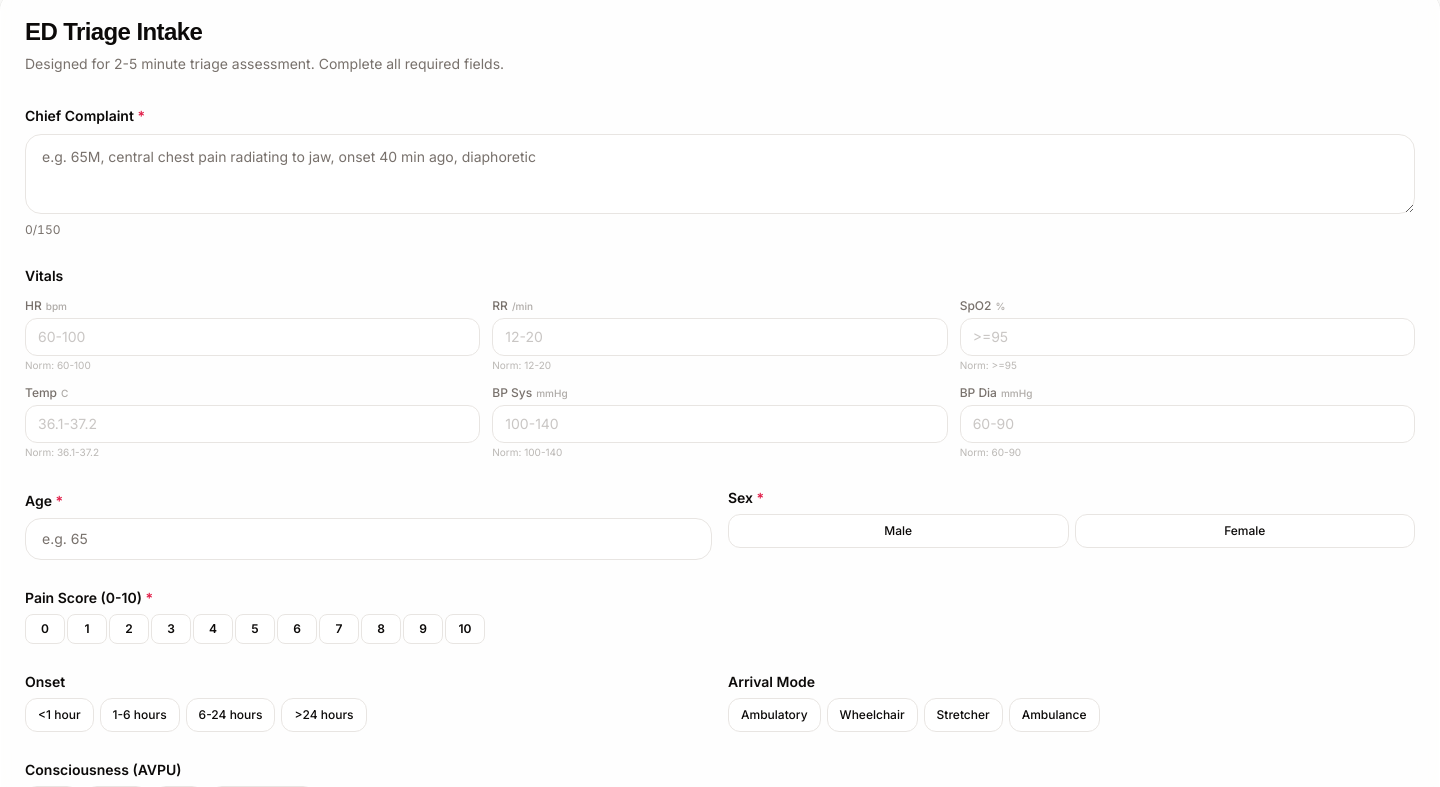
Test: TriageForm › toggles sex selection on second click
Step 1. Click the button "Male" → (898, 531), box top-left (728, 514), bottom-right (1068, 548)
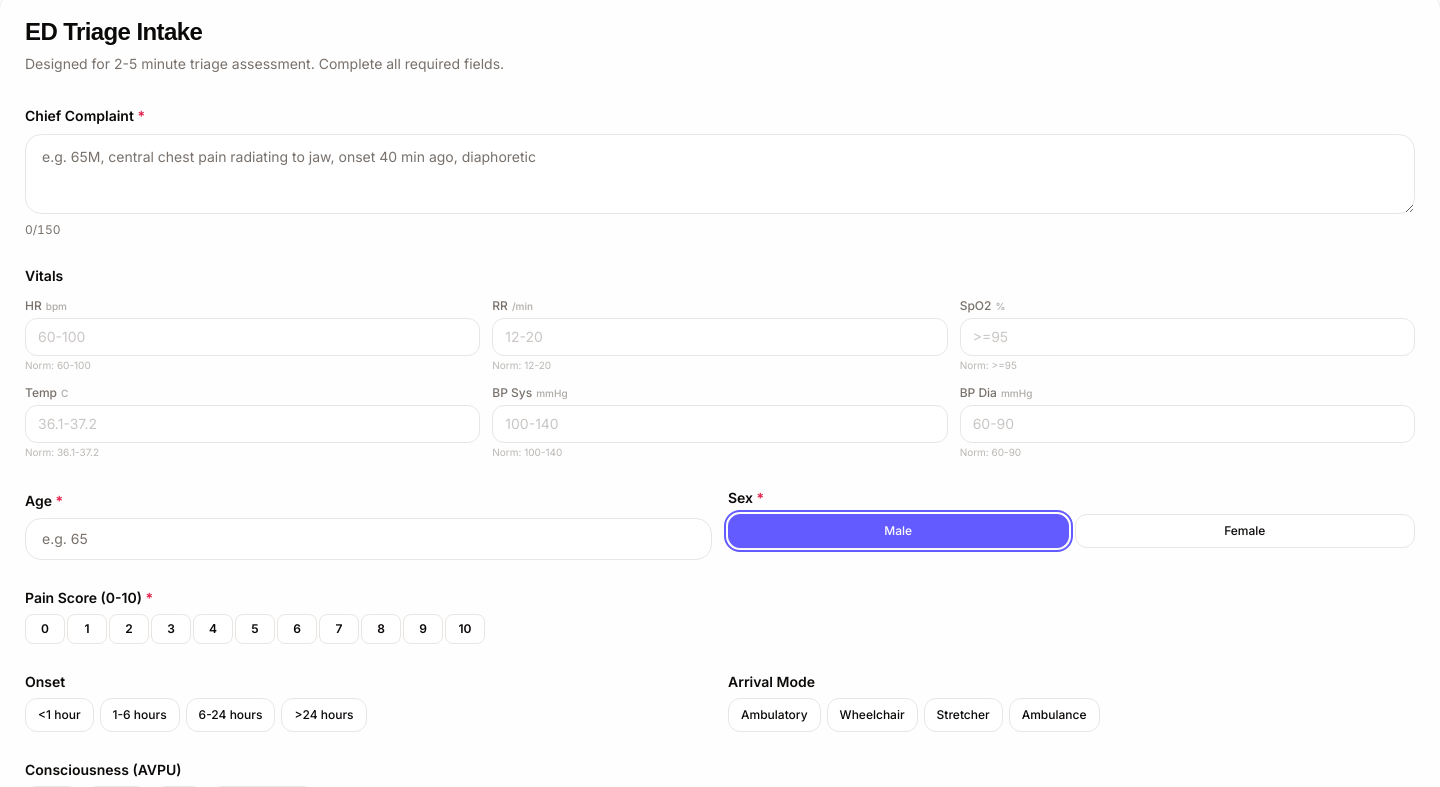
Step 2. Click the button "Male" → (898, 531), box top-left (728, 514), bottom-right (1068, 548)
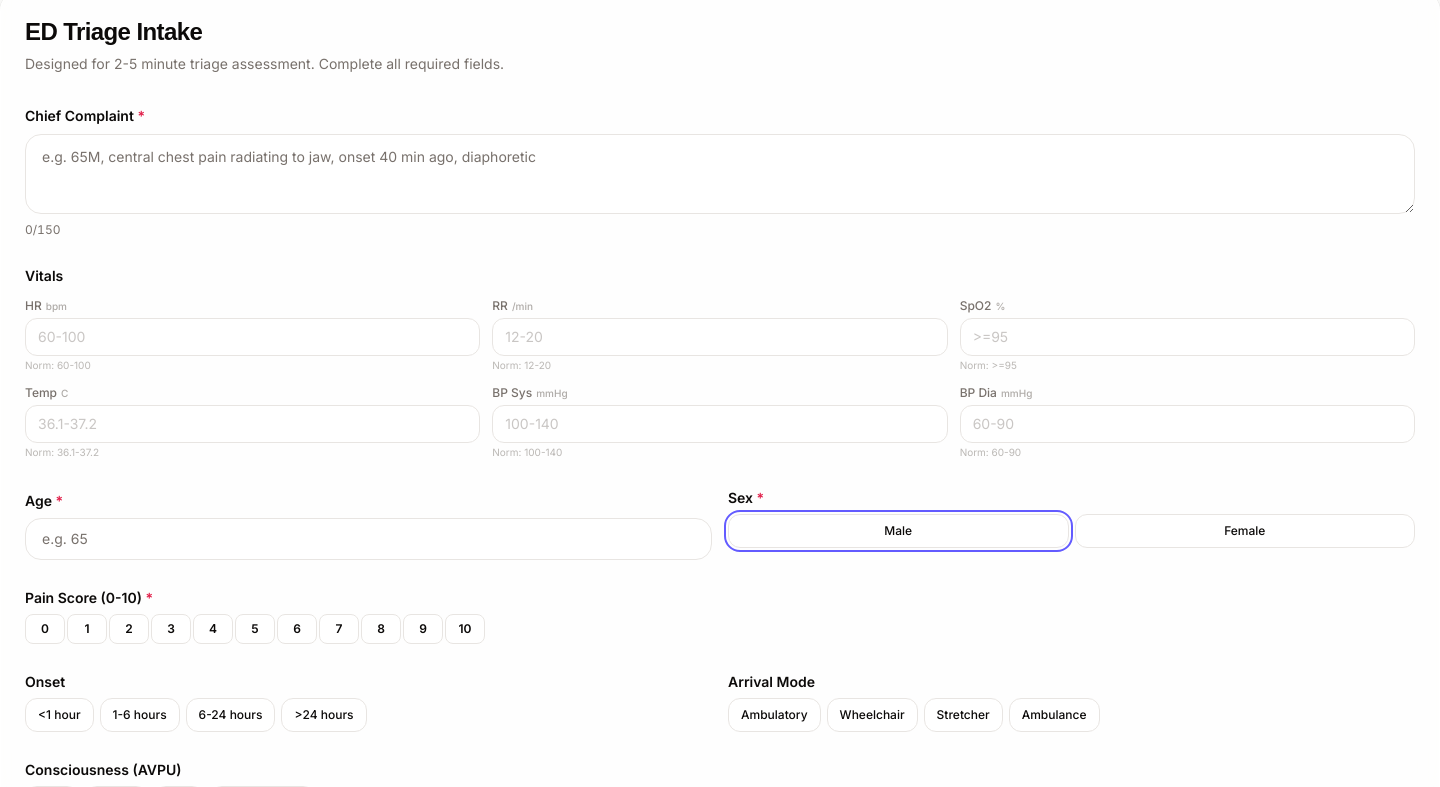
// Submit should fail because sex is now empty
Step 3. Type "test" into the text box labelled "Chief Complaint *" → (720, 174), box top-left (25, 134), bottom-right (1415, 214)
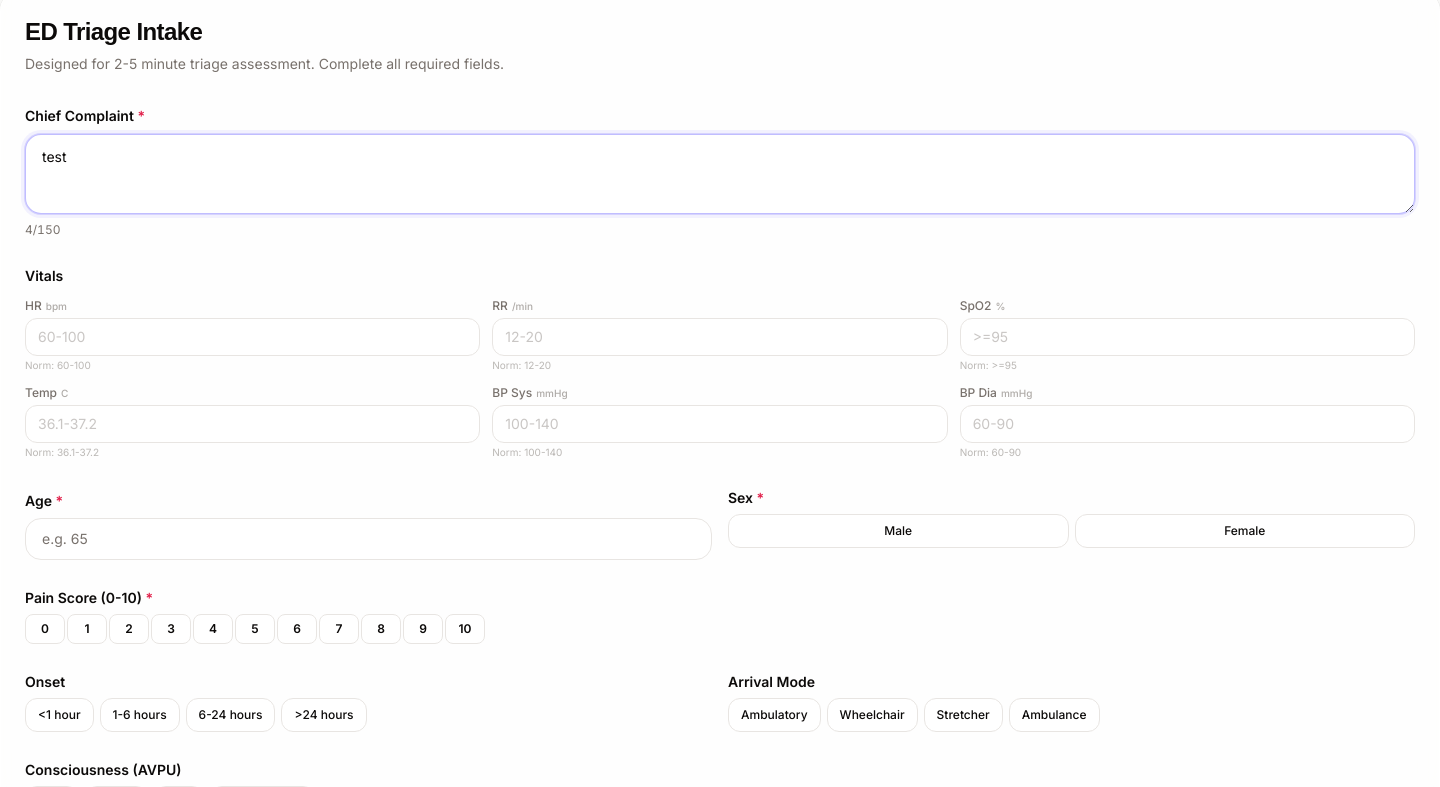
Step 4. Type "30" into the number field with placeholder "e.g. 65" → (368, 539), box top-left (25, 518), bottom-right (712, 560)
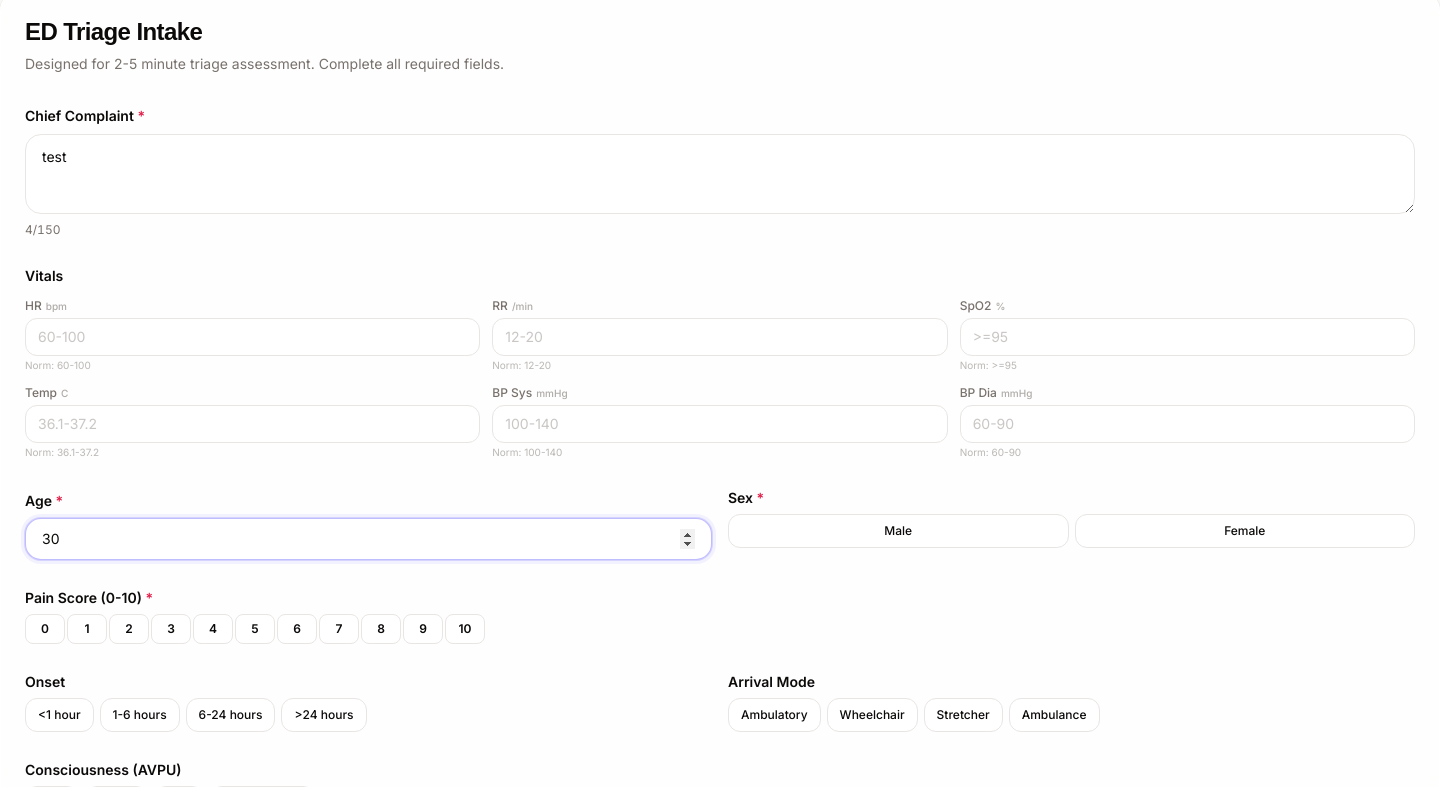
Step 5. Click the button "5" → (255, 629), box top-left (235, 614), bottom-right (275, 644)
(page scrolled)
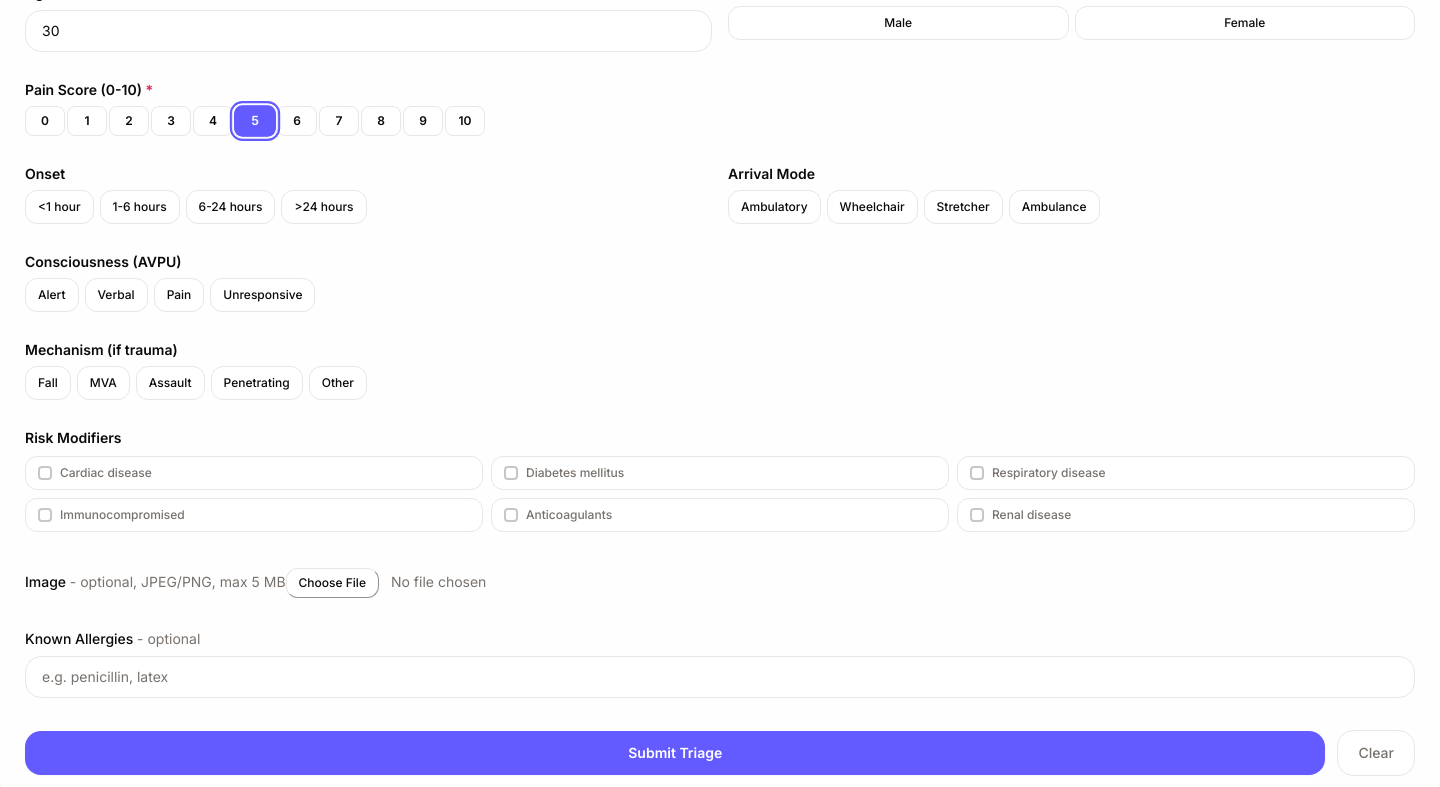
Step 6. Click the button "Submit Triage" → (675, 753), box top-left (25, 731), bottom-right (1326, 775)
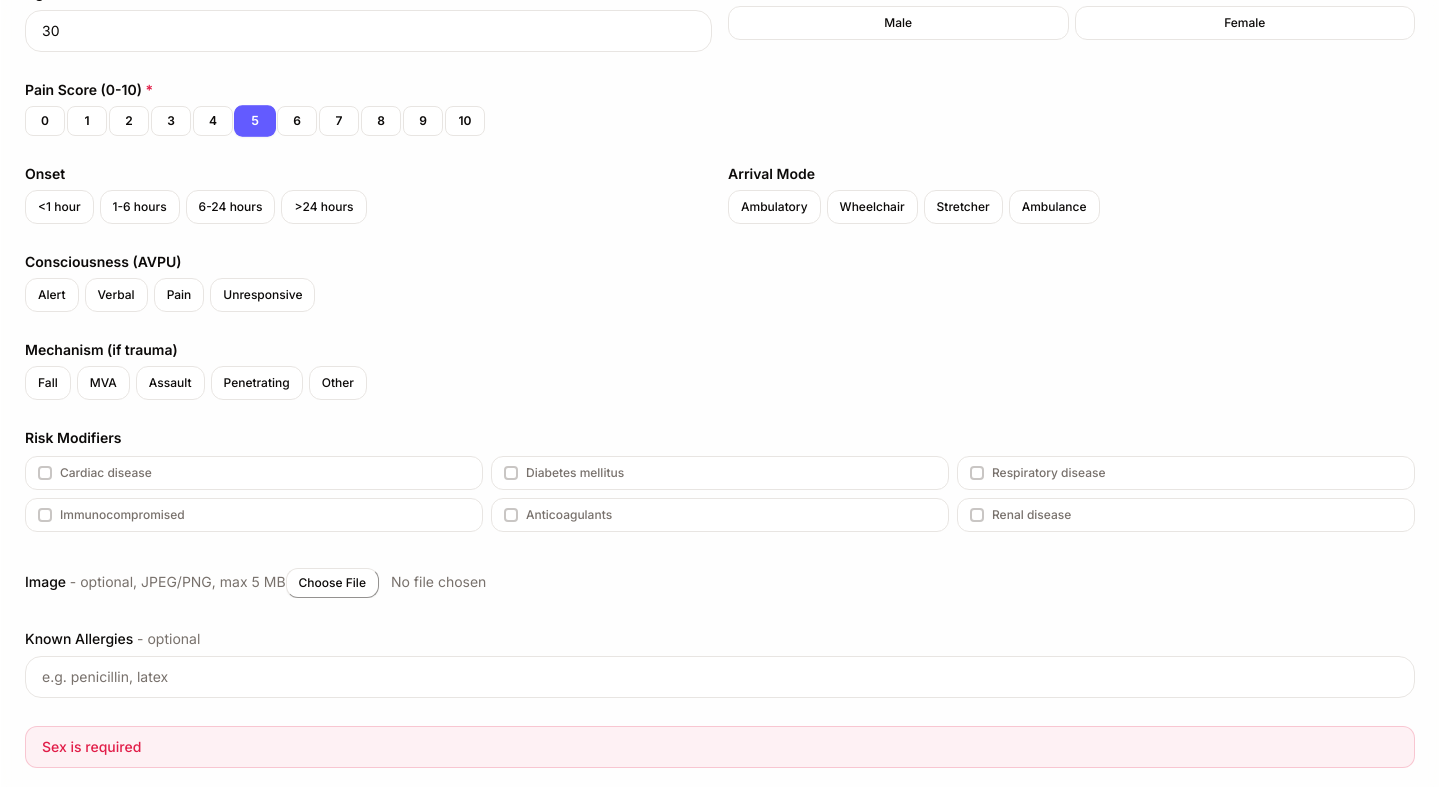
Result: the text "Sex is required" is shown at top-left (25, 726), bottom-right (1415, 768)
